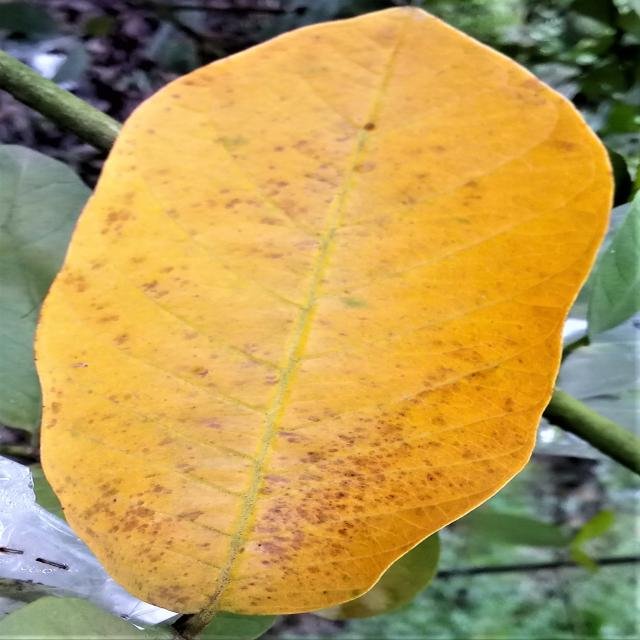Red Rust: (36, 8, 612, 619)
